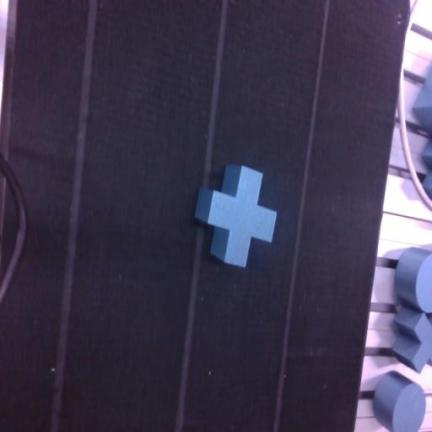cross: (195, 165, 276, 267), (393, 307, 431, 372)
